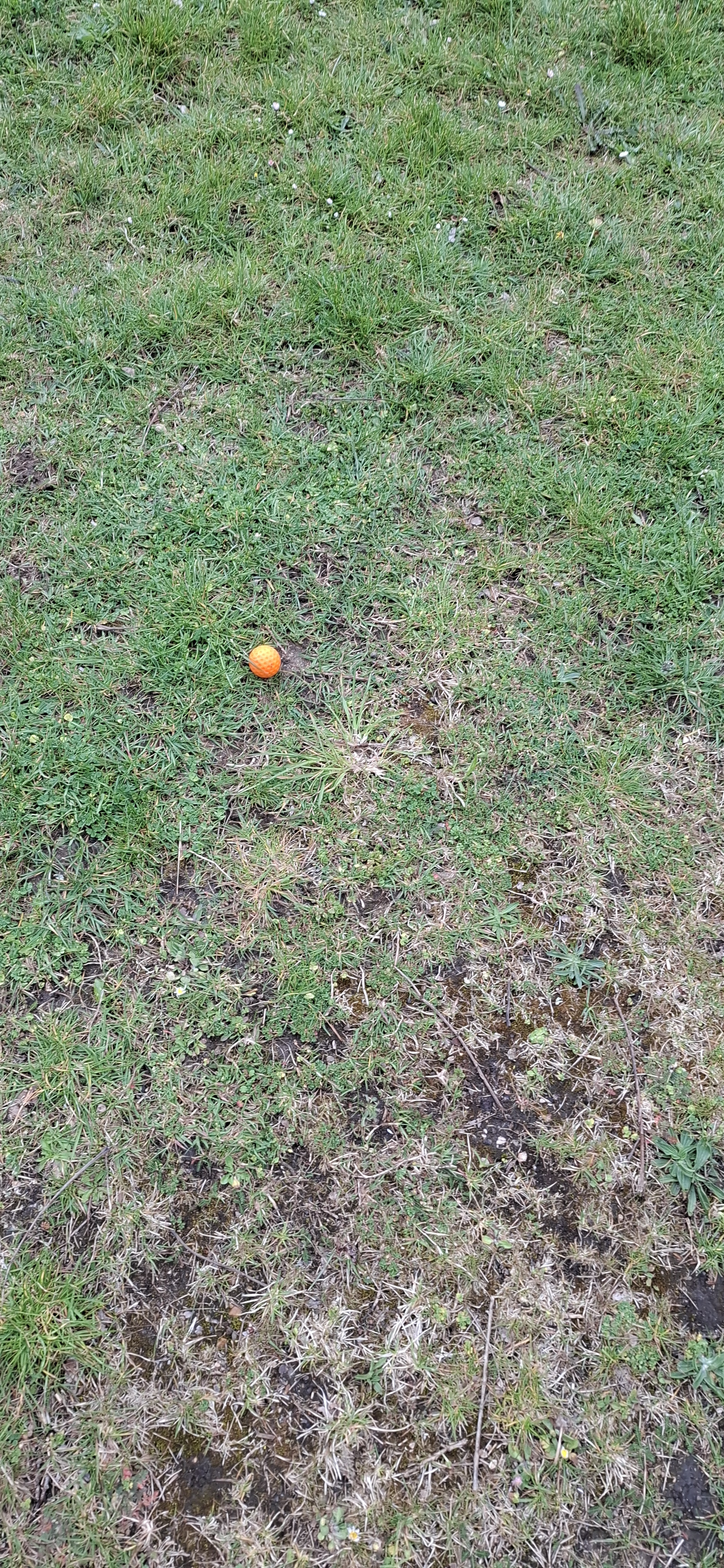ball: (298, 960, 313, 1031)
